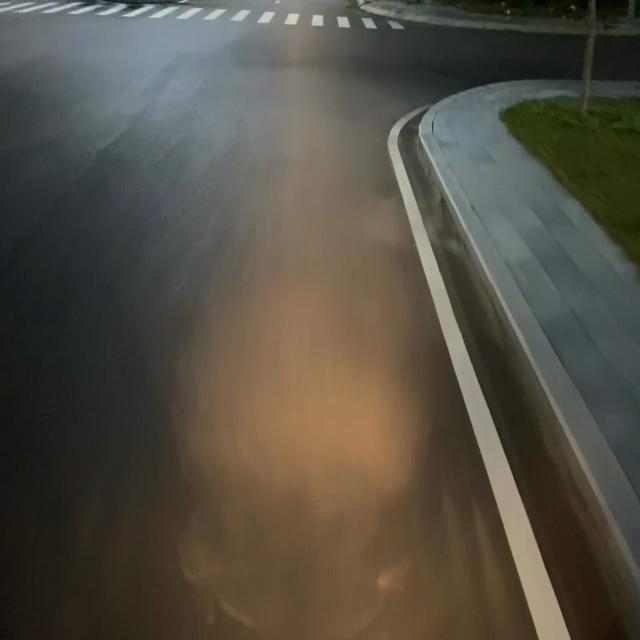walk-crossing: (128, 2, 406, 41)
